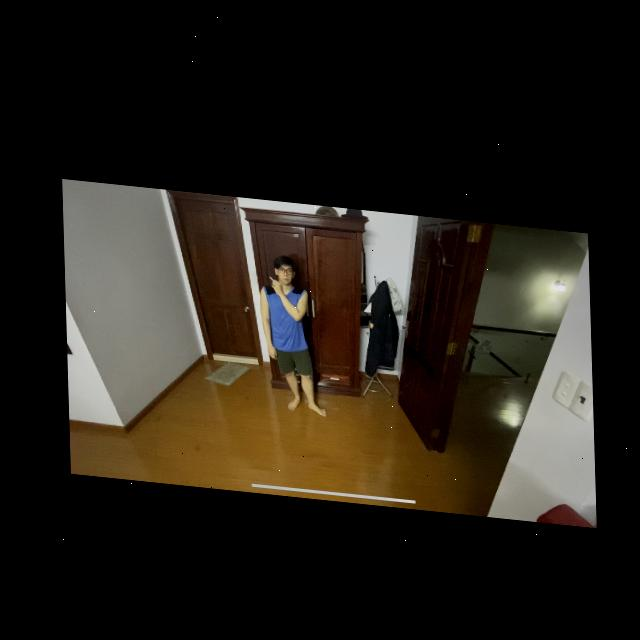cigarette: (268, 270, 272, 275)
